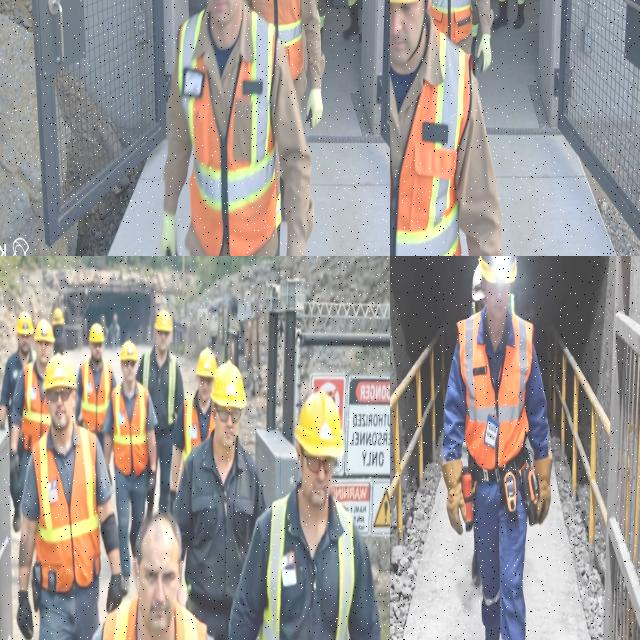Vest: (179, 26, 277, 246), (390, 34, 469, 255), (32, 429, 99, 592), (457, 313, 495, 470), (259, 494, 289, 639), (248, 0, 302, 62), (111, 383, 147, 476), (21, 364, 50, 450), (81, 360, 111, 432), (429, 0, 471, 42), (102, 597, 137, 639), (182, 395, 200, 462), (167, 354, 175, 424)
Worker: (442, 256, 551, 639), (160, 0, 312, 255), (229, 391, 379, 639), (16, 355, 122, 639), (390, 0, 502, 255), (173, 362, 264, 639), (92, 513, 210, 639), (103, 341, 156, 589), (247, 0, 323, 127), (136, 310, 183, 511), (10, 319, 52, 505), (170, 348, 215, 511), (75, 324, 116, 447), (430, 0, 492, 71), (0, 311, 34, 432), (343, 0, 358, 40), (493, 0, 507, 28), (318, 0, 325, 34), (472, 10, 478, 39), (314, 0, 318, 2)
helmet: (294, 390, 343, 458), (210, 361, 245, 408), (43, 354, 75, 390), (479, 256, 516, 284), (196, 348, 215, 378), (34, 319, 53, 343), (16, 311, 33, 335), (154, 310, 172, 332), (120, 340, 137, 361), (89, 324, 103, 343), (52, 308, 63, 325), (390, 0, 417, 3)
